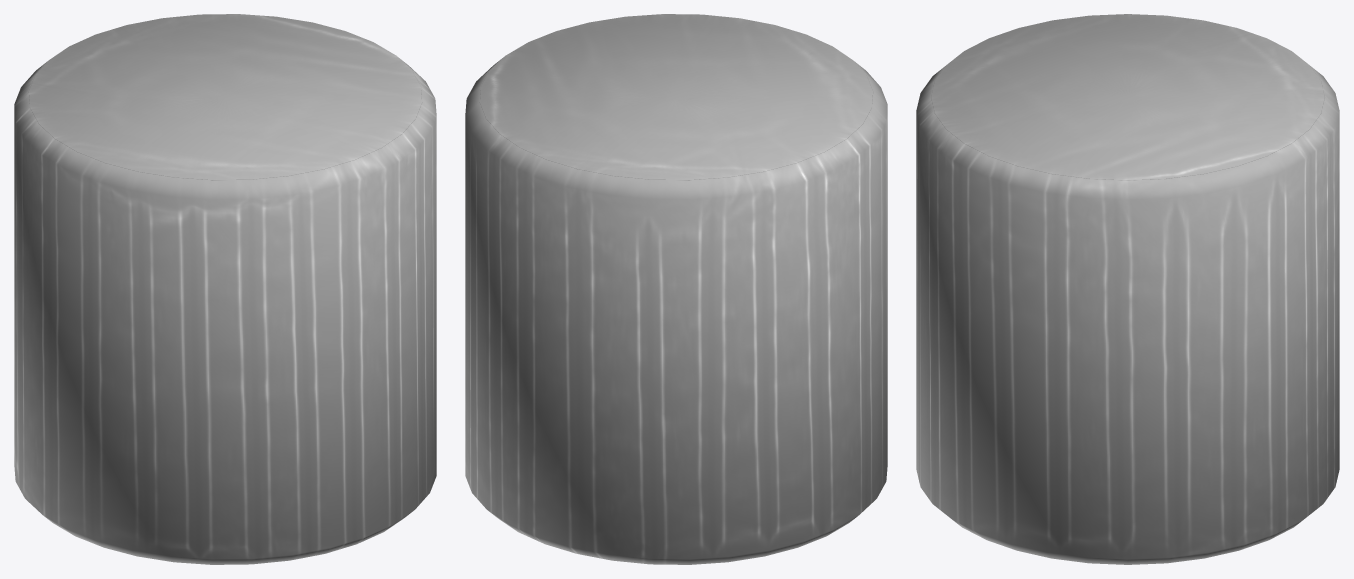
Rendered from Colon.fbx.
3 renders of one model, left to right at view 1: azimuth 30°, elevation 25°; view 2: azimuth 150°, elevation 25°; view 3: azimuth 270°, elevation 25°, orthographic.
Parts seen in each view (by area): view 1: Cylinder; view 2: Cylinder; view 3: Cylinder.
Boxes of the visible parts, <box> form: Cylinder: <box>14,14,436,564</box>; Cylinder: <box>465,14,887,564</box>; Cylinder: <box>916,14,1339,564</box>.
Size of the model in its own units: 200 by 200 by 200.
